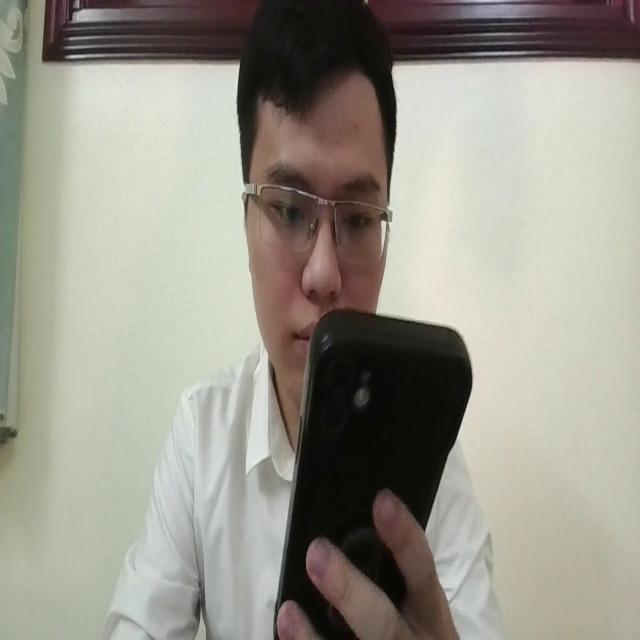phone: (264, 301, 472, 640)
student: (103, 0, 506, 640)
